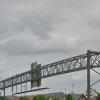Bridge: (4, 46, 95, 92)
